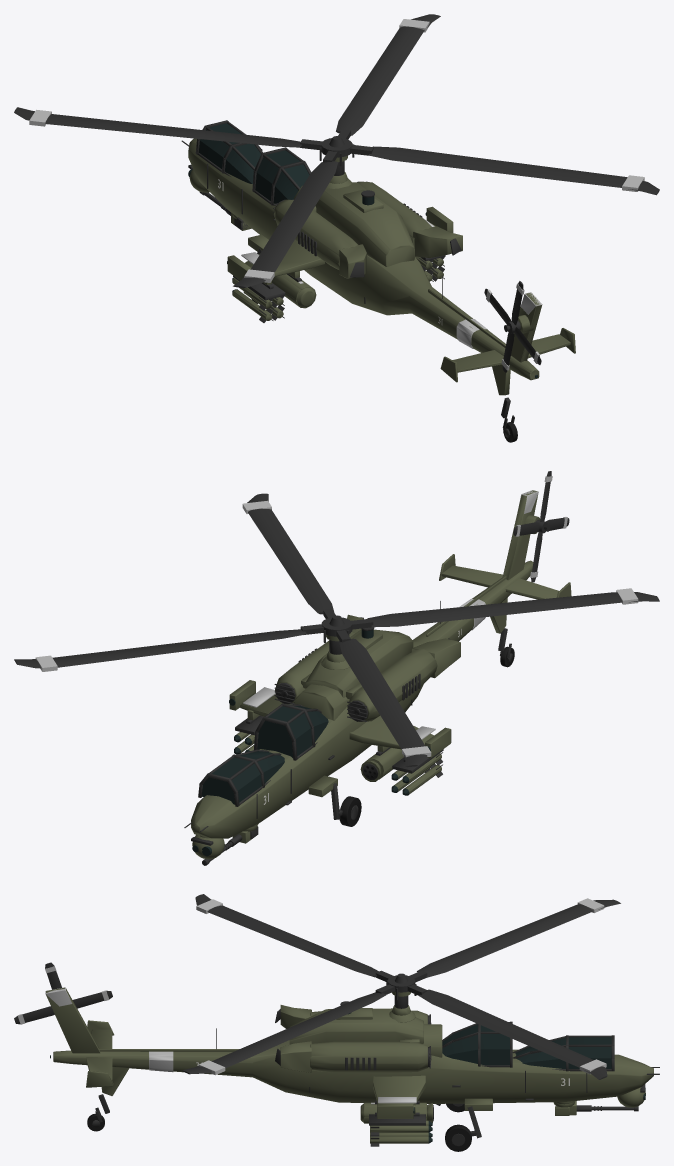
Rendered from kite.glb.
3 renders of one model, top to bottom at view 1: azimuth 30°, elevation 25°; view 2: azimuth 150°, elevation 25°; view 3: azimuth 270°, elevation 25°, orthographic. The views are drawn at different scales.
Parts seen in each view (by area): view 1: Body, MainRotor, TailRotor; view 2: Body, MainRotor, TailRotor; view 3: Body, MainRotor, TailRotor, Cannon.
Part boxes in pixels (x1,y1,x2,y2): Body: [181, 120, 575, 442]; MainRotor: [14, 14, 659, 288]; TailRotor: [484, 281, 541, 372]; Body: [184, 490, 571, 859]; MainRotor: [14, 493, 659, 767]; TailRotor: [513, 471, 569, 582]; Body: [45, 987, 659, 1151]; MainRotor: [182, 894, 620, 1079]; TailRotor: [14, 962, 112, 1024]; Cannon: [553, 1101, 638, 1115].
Size of the model in its own units: 10.8 by 4.37 by 15.87.
